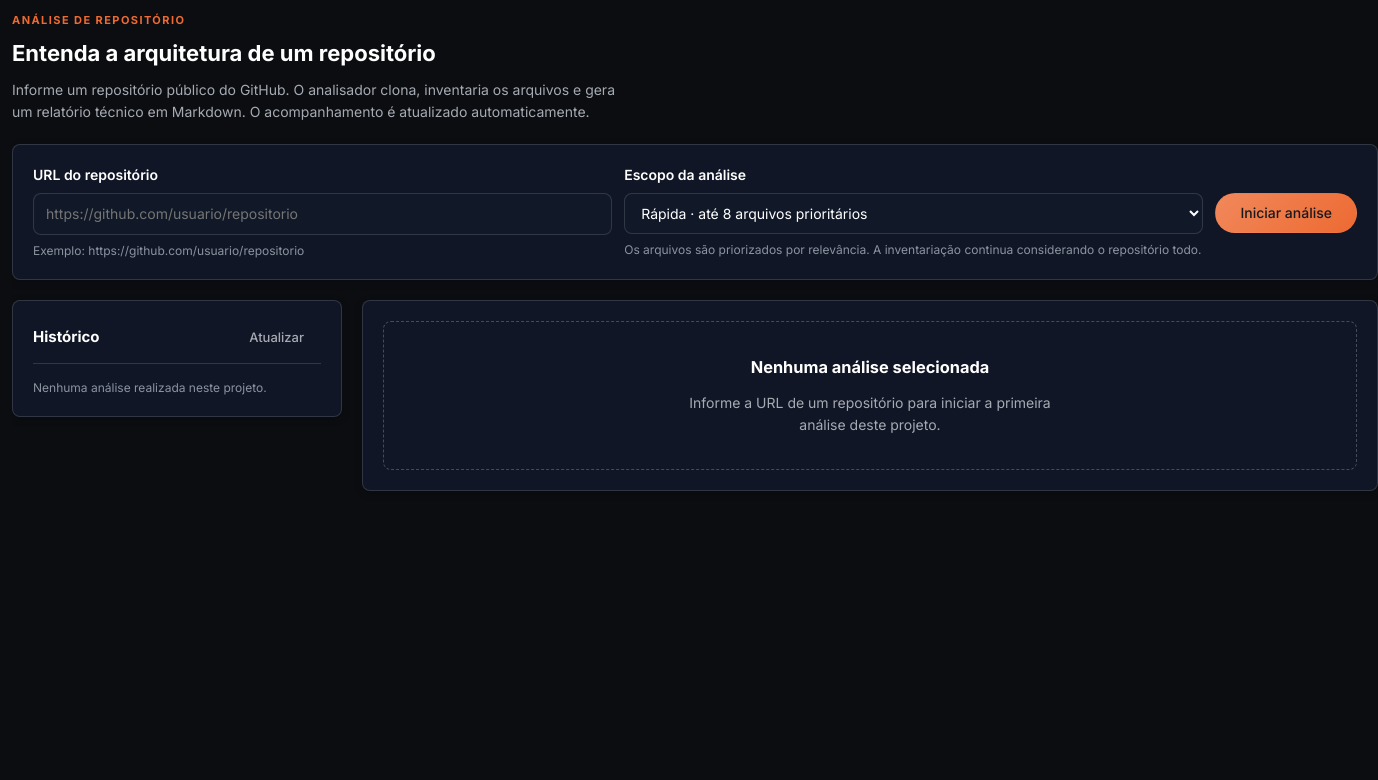
Test: inicia a análise, seleciona a nova e exibe a mensagem do servidor quando recusa
Expected: the text "Nenhuma análise realizada neste projeto." is shown, 33,380 -> 267,395
In the field labelled "URL do repositório": (323,214) 33,193 -> 612,235, type "https://github.com/acme/novo"
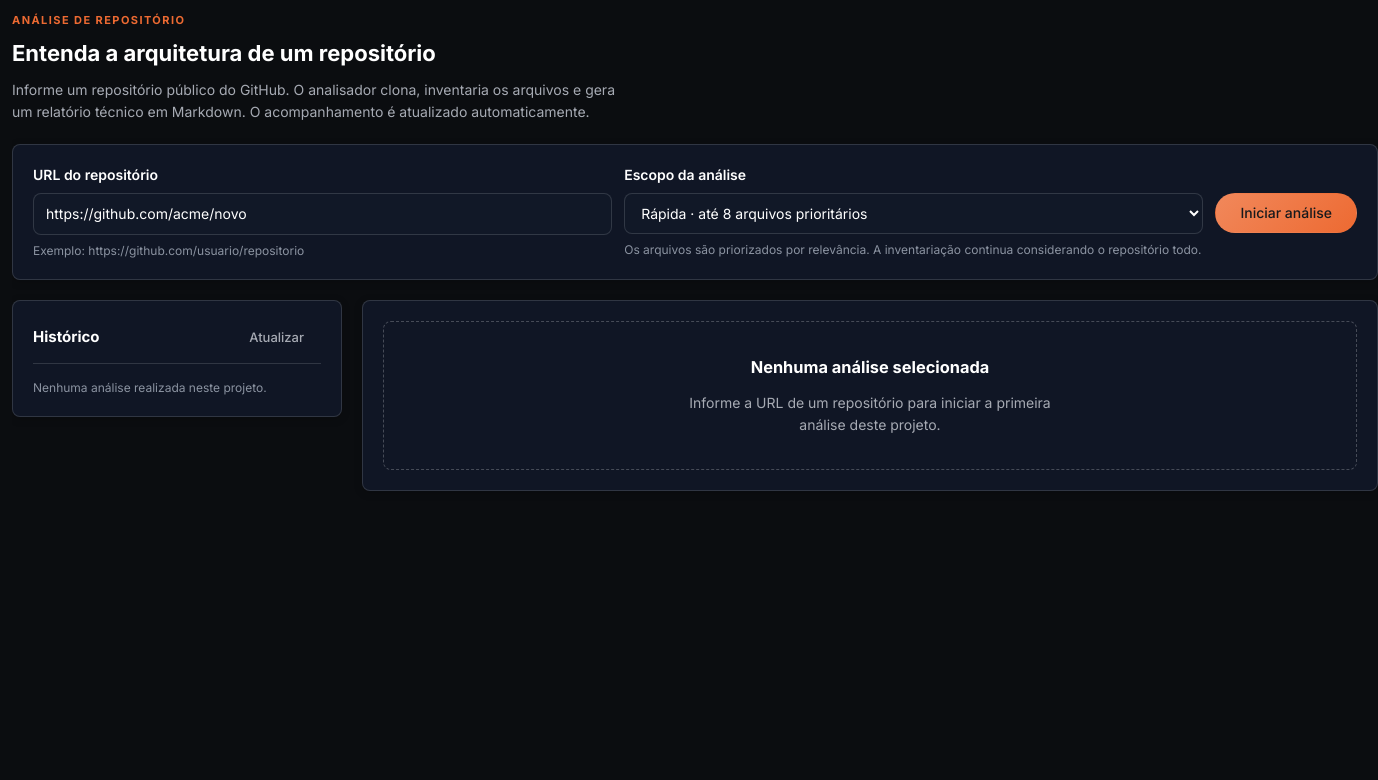
Click the button "Iniciar análise": (1286,213) 1215,193 -> 1357,233
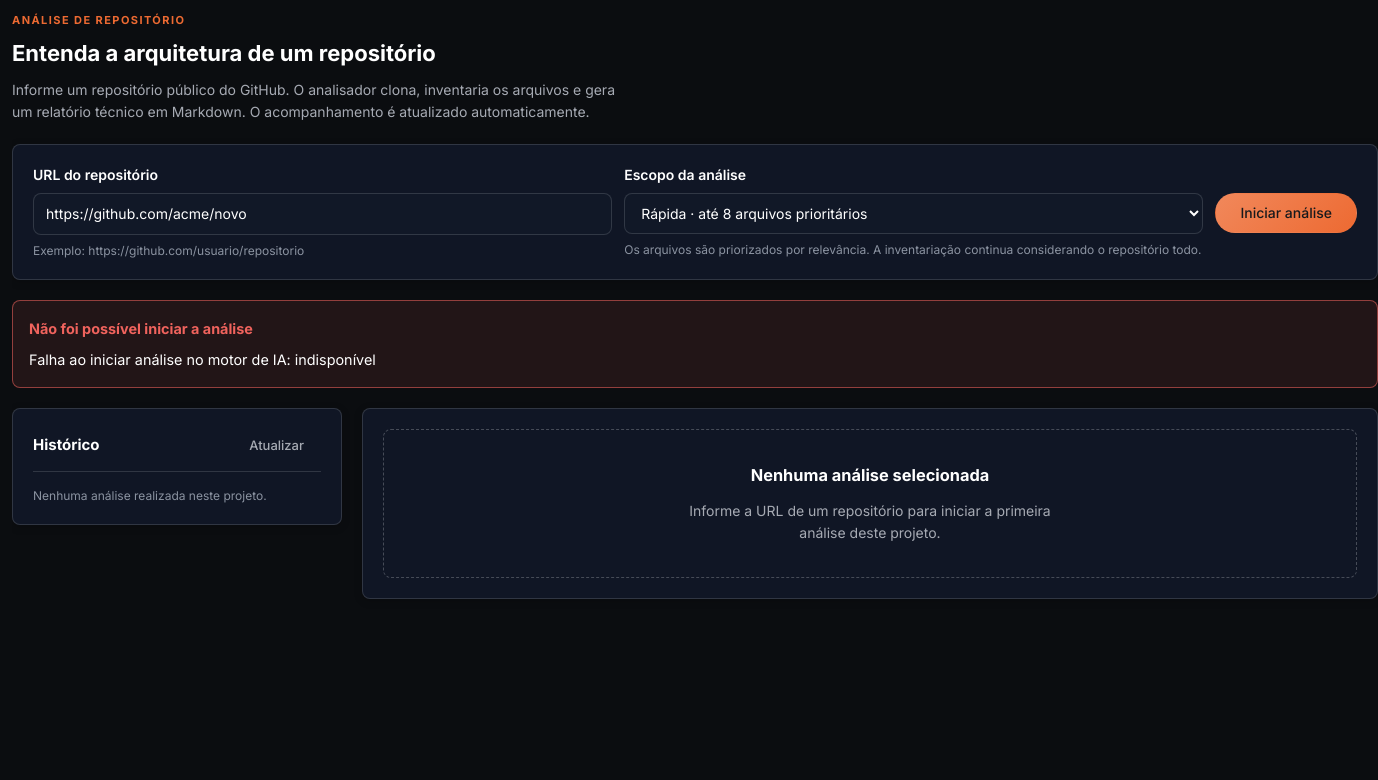
Expected: the text "Falha ao iniciar análise no motor de IA: indisponível" is shown, 29,351 -> 376,368
Click the button "Iniciar análise": (1286,213) 1215,193 -> 1357,233
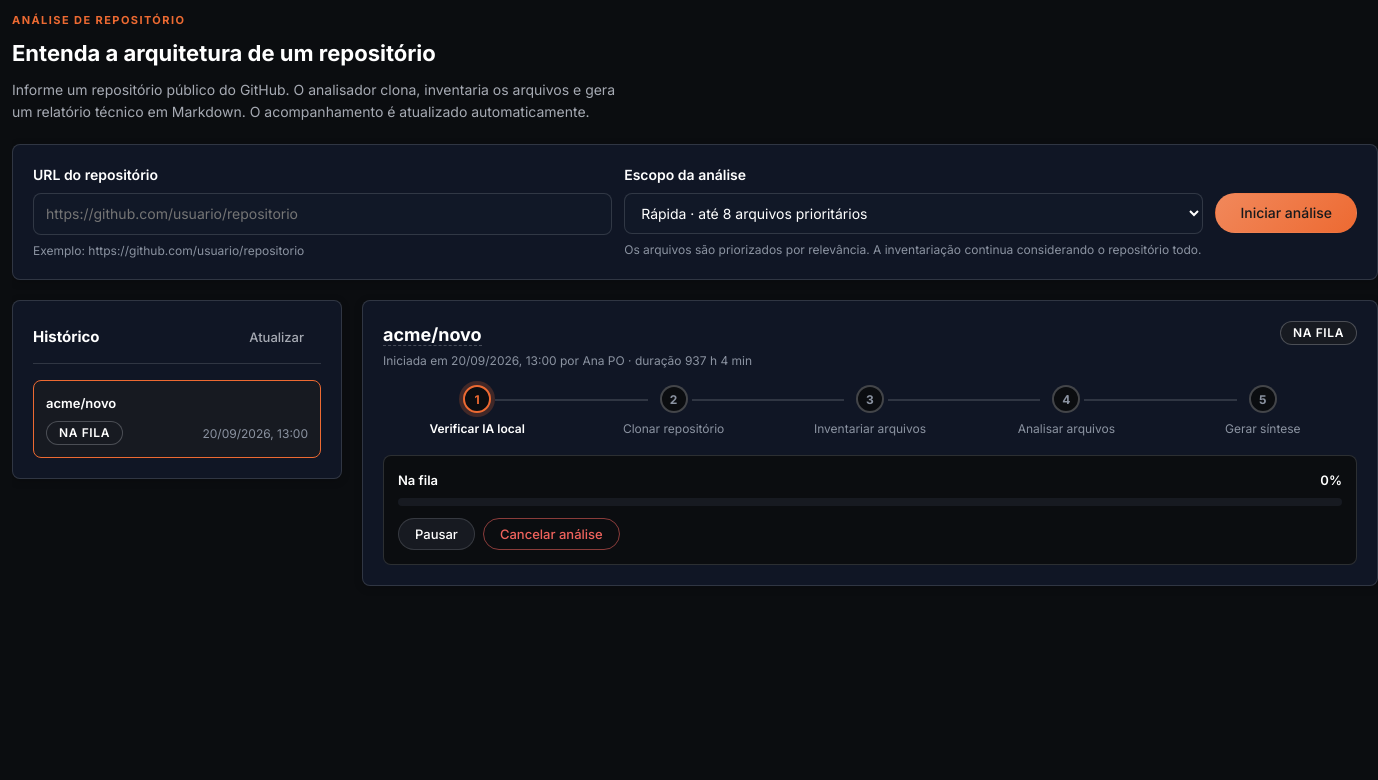
Expected: the 3rd text "Na fila" is shown, 398,470 -> 438,490
Expected: the field labelled "URL do repositório" is empty, 33,193 -> 612,235
